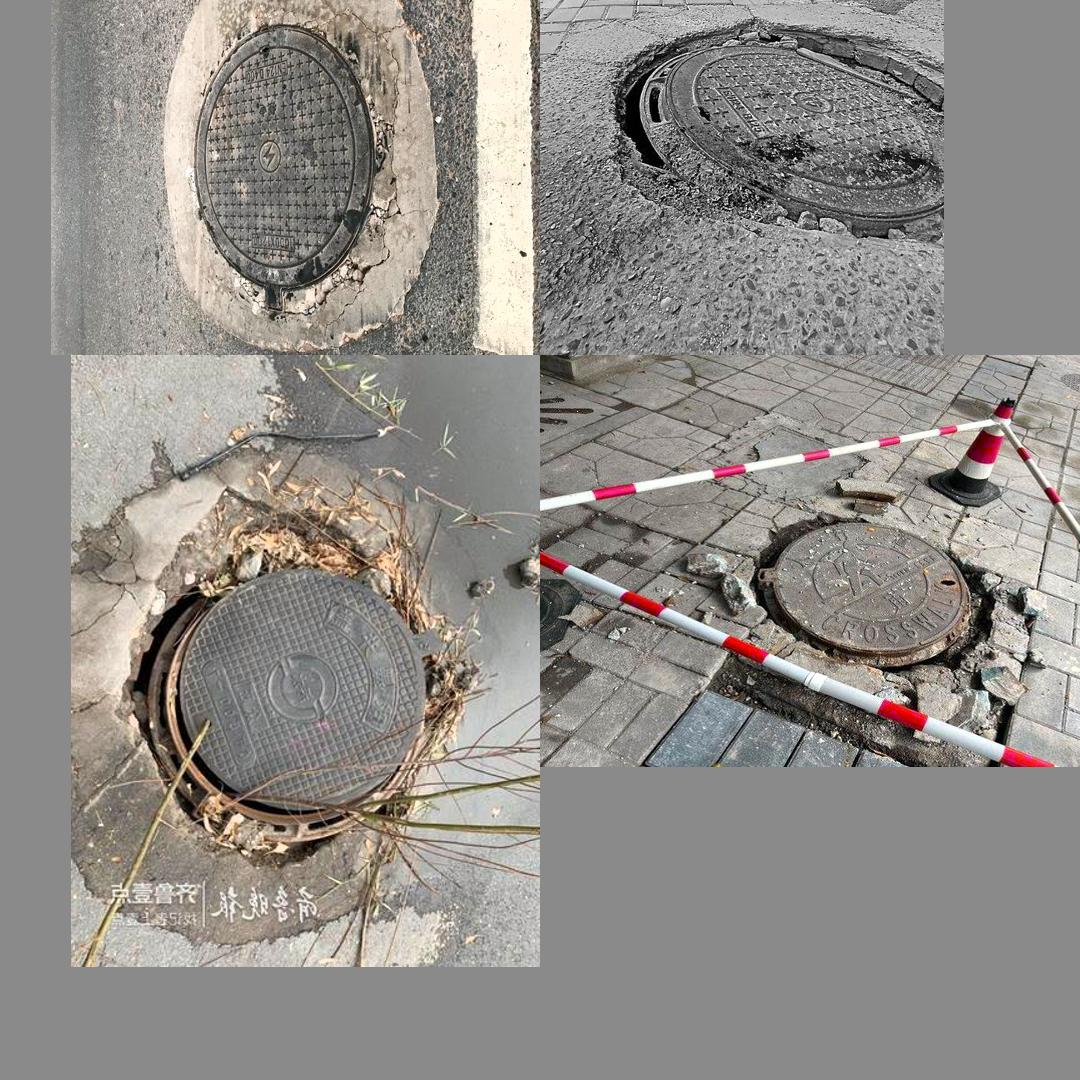circle: (77, 441, 492, 935), (593, 4, 943, 307), (165, 0, 436, 346), (703, 497, 1026, 752)
